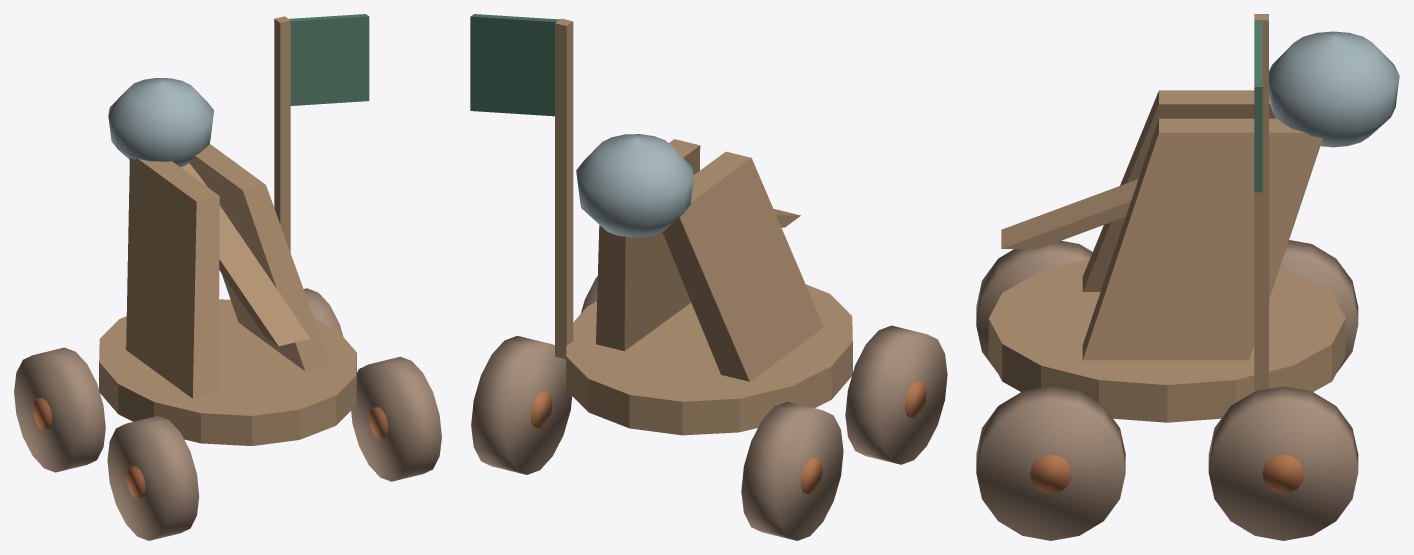
The model's file is catapult.glb.
The picture shows the model from 3 angles, left to right: view 1: azimuth 30°, elevation 25°; view 2: azimuth 150°, elevation 25°; view 3: azimuth 270°, elevation 25°; orthographic projection. The views are drawn at different scales.
Visible parts, largest first — view 1: Siege deck, A frame, A frame.001, Wheel carved rim, Wheel carved rim.001, Wheel carved rim.002, Sling stone, Regional siege banner, Throwing arm, Flagpole, Wheel carved rim.003, Wheel hub (+2 smaller); view 2: Siege deck, A frame, Wheel carved rim.001, Wheel carved rim, Wheel carved rim.003, Sling stone, A frame.001, Regional siege banner, Flagpole, Wheel hub.001, Wheel hub, Wheel hub.003; view 3: A frame.001, Siege deck, Wheel carved rim.003, Wheel carved rim.002, Sling stone, A frame, Flagpole, Throwing arm, Wheel carved rim, Wheel carved rim.001, Regional siege banner, Wheel hub.003 (+1 smaller).
Part boxes in pixels (x1,y1,x2,y2): Siege deck: [99, 299, 356, 445]; A frame: [126, 158, 219, 398]; A frame.001: [189, 144, 330, 371]; Wheel carved rim: [107, 416, 199, 540]; Wheel carved rim.001: [14, 347, 105, 472]; Wheel carved rim.002: [351, 356, 441, 481]; Sling stone: [108, 78, 213, 167]; Regional siege banner: [289, 14, 369, 105]; Throwing arm: [181, 163, 310, 346]; Flagpole: [274, 16, 290, 252]; Wheel carved rim.003: [303, 288, 343, 336]; Wheel hub: [126, 466, 145, 499]; Siege deck: [566, 284, 852, 435]; A frame: [662, 151, 823, 381]; Wheel carved rim.001: [741, 401, 843, 540]; Wheel carved rim: [845, 325, 947, 464]; Wheel carved rim.003: [471, 335, 572, 474]; Sling stone: [576, 134, 693, 237]; A frame.001: [596, 139, 700, 351]; Regional siege banner: [470, 14, 559, 116]; Flagpole: [555, 18, 573, 358]; Wheel hub.001: [801, 457, 822, 494]; Wheel hub: [905, 381, 926, 418]; Wheel hub.003: [530, 391, 552, 428]; A frame.001: [1082, 118, 1322, 360]; Siege deck: [988, 259, 1345, 422]; Wheel carved rim.003: [1208, 386, 1358, 540]; Wheel carved rim.002: [976, 386, 1125, 540]; Sling stone: [1269, 31, 1399, 147]; A frame: [1082, 90, 1276, 291]; Flagpole: [1254, 14, 1268, 391]; Throwing arm: [1001, 179, 1138, 248]; Wheel carved rim: [976, 240, 1092, 372]; Wheel carved rim.001: [1280, 240, 1358, 372]; Regional siege banner: [1254, 21, 1262, 192]; Wheel hub.003: [1262, 454, 1304, 493].
Bounding box in the file's own units: 1.09 × 1.32 × 1.02.
